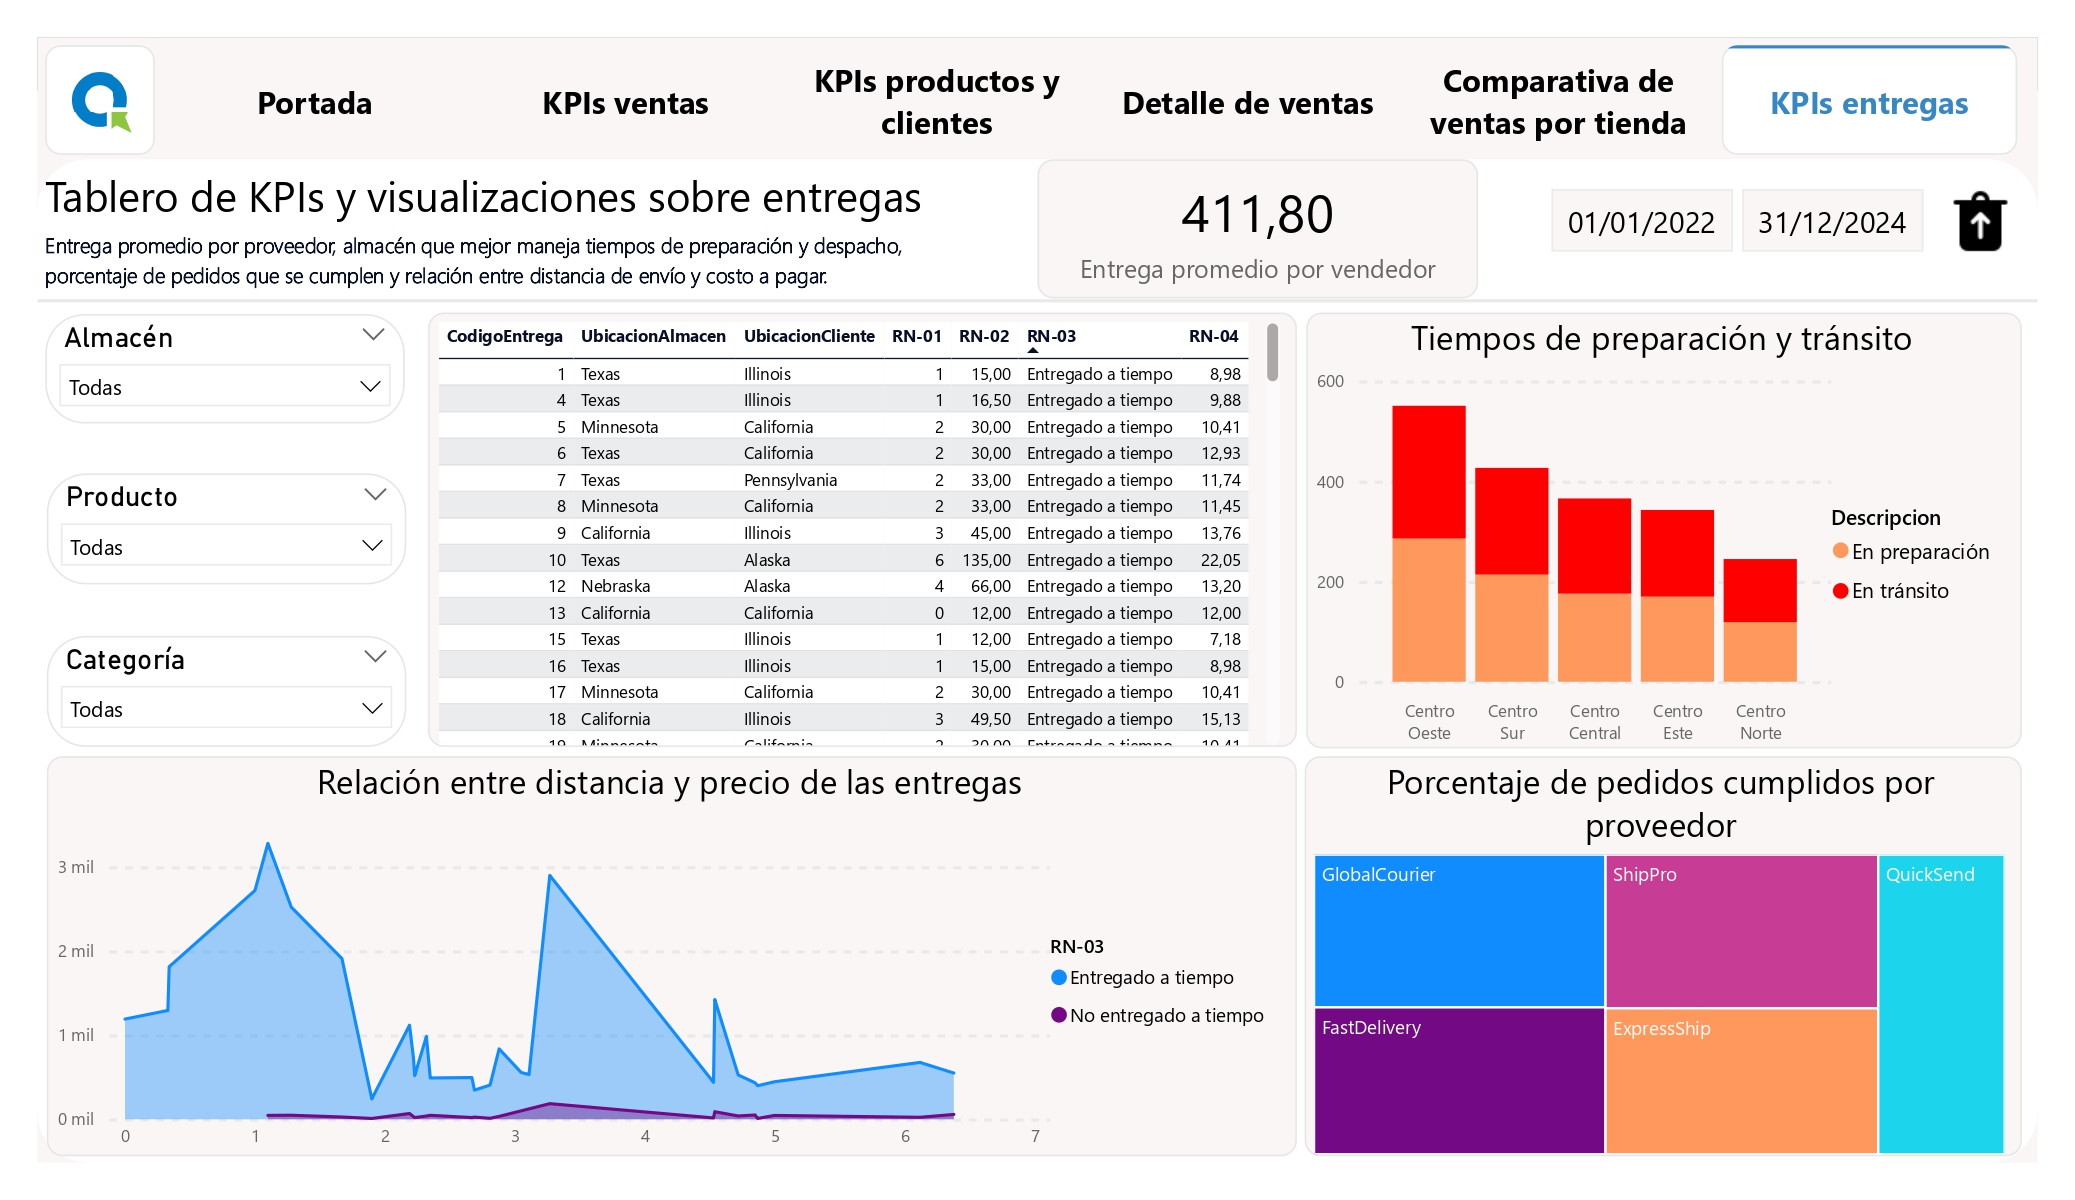

What the dashboard file says about the page in this screenshot:
{"tool":"powerbi","page":{"name":"KPIs entregas","canvas":[1280,720],"ordinal":5},"visuals":[{"type":"shape","box":[0,78.3,1280,641.7],"z":0},{"type":"pageNavigator","box":[83.3,5,1186.7,70],"z":1000},{"type":"image","box":[5.4,5.4,70,70],"z":2000},{"type":"slicer","fields":{"Values":["Dim_Tiempo.Tiempo_Key"]},"box":[955.8,86.7,261.7,60],"z":3000},{"type":"textbox","title":"Tablero de KPIs y visualizaciones sobre entregas","box":[0,83.3,621.1,85.6],"z":4000},{"type":"shape","box":[0,162.7,1280,11.4],"z":5000},{"type":"image","box":[1216.7,91.7,53.3,50],"z":6000},{"type":"tableEx","fields":{"Values":["Check_Entrega.CodigoEntrega","Check_Entrega.UbicacionAlmacen","Check_Entrega.UbicacionCliente","Check_Entrega.TiempoReal","Check_Entrega.RN-02","Check_Entrega.RN-03","Check_Entrega.RN-04"]},"box":[250,175.7,556.4,278.6],"z":7000},{"type":"treemap","title":"Porcentaje de pedidos cumplidos por proveedor","fields":{"Group":["Dim_Proveedor.NombreProveedor"],"Values":["CountNonNull(Check_Entrega.CodigoProveedor)"]},"box":[811.4,460,458.6,255.7],"z":8000},{"type":"card","fields":{"Values":["Check_Entrega.Promedio por proveedor"]},"box":[640,78.3,281.7,88.3],"z":9000},{"type":"slicer","fields":{"Values":["Dim_Producto.Categoria"]},"box":[5.7,382.9,230,71.4],"z":10000},{"type":"slicer","fields":{"Values":["Check_Entrega.Almacen"]},"box":[5,176.7,230,70],"z":11000},{"type":"slicer","fields":{"Values":["Dim_Producto.Producto"]},"box":[5.7,279,230,71.4],"z":12000},{"type":"columnChart","title":"Tiempos de preparación y tránsito","fields":{"Category":["Dim_Almacen.NombreAlmacen"],"Series":["Dim_Estado.Descripcion"],"Y":["Sum(Check_Entrega.TiempoReal)"]},"box":[811.5,176.2,458.5,278.5],"z":13000},{"type":"areaChart","title":"Relación entre distancia y precio de las entregas","fields":{"Category":["Check_Entrega.DistanciaKM"],"Series":["Check_Entrega.RN-03"],"Y":["Sum(Check_Entrega.RN-04)"]},"box":[5.7,460,800.7,255.7],"z":14000}]}

Visuals, with their boxes on the page's 1280x720 design canvas (x1, y1, x2, y2). These are canvas units, not pixel positions in the 2075x1200 screenshot, which may show the page scaled, cropped or inside an application window:
shape: 0/78/1280/720
pageNavigator: 83/5/1270/75
image: 5/5/75/75
slicer - Dim_Tiempo.Tiempo_Key: 956/87/1218/147
"Tablero de KPIs y visualizaciones sobre entregas" textbox: 0/83/621/169
shape: 0/163/1280/174
image: 1217/92/1270/142
tableEx - Check_Entrega.CodigoEntrega x Check_Entrega.UbicacionAlmacen: 250/176/806/454
"Porcentaje de pedidos cumplidos por proveedor" treemap: 811/460/1270/716
card - Check_Entrega.Promedio por proveedor: 640/78/922/167
slicer - Dim_Producto.Categoria: 6/383/236/454
slicer - Check_Entrega.Almacen: 5/177/235/247
slicer - Dim_Producto.Producto: 6/279/236/350
"Tiempos de preparación y tránsito" columnChart: 812/176/1270/455
"Relación entre distancia y precio de las entregas" areaChart: 6/460/806/716
